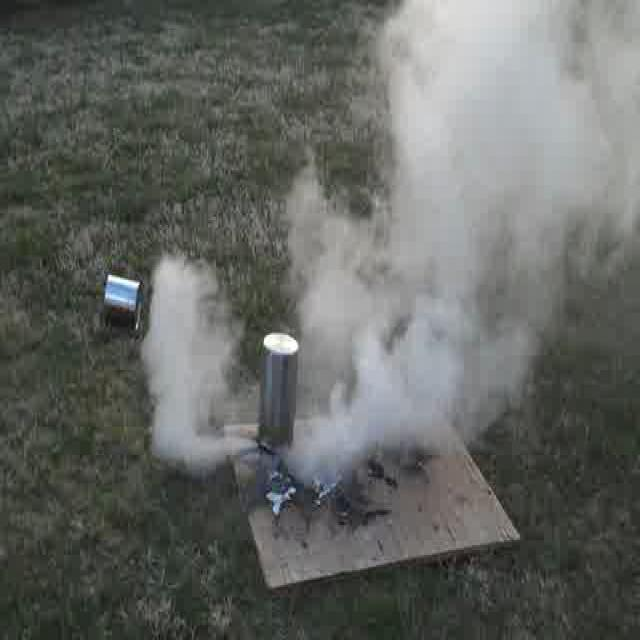Smoke: (302, 0, 640, 473), (144, 256, 248, 476)
